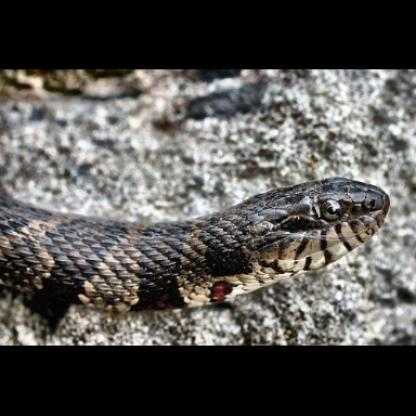Snake: (6, 160, 410, 318)
